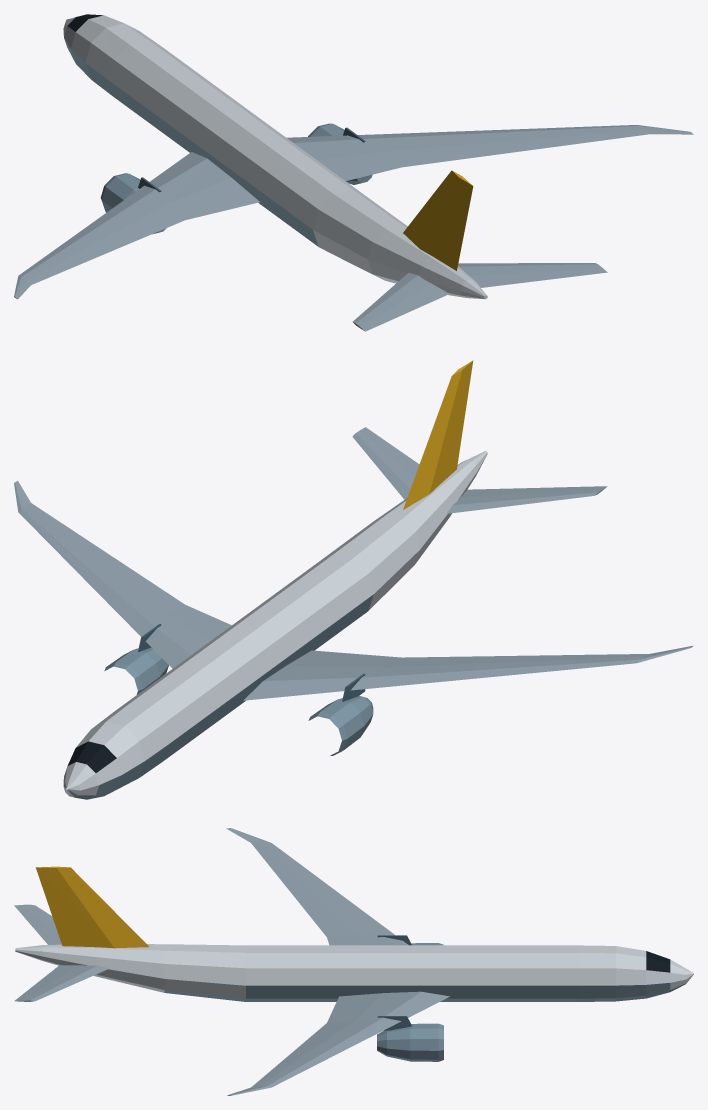
3 renders of one model, top to bottom at view 1: azimuth 30°, elevation 25°; view 2: azimuth 150°, elevation 25°; view 3: azimuth 270°, elevation 25°, orthographic. The views are drawn at different scales.
Visible parts, largest first — view 1: lod0; view 2: lod0; view 3: lod0.
Part boxes in pixels (<box>): lod0: <box>14,14,693,331</box>; lod0: <box>14,360,693,799</box>; lod0: <box>14,828,693,1095</box>.
Size of what is drawn, in the model's own units: 0.93 by 0.2461 by 1.
